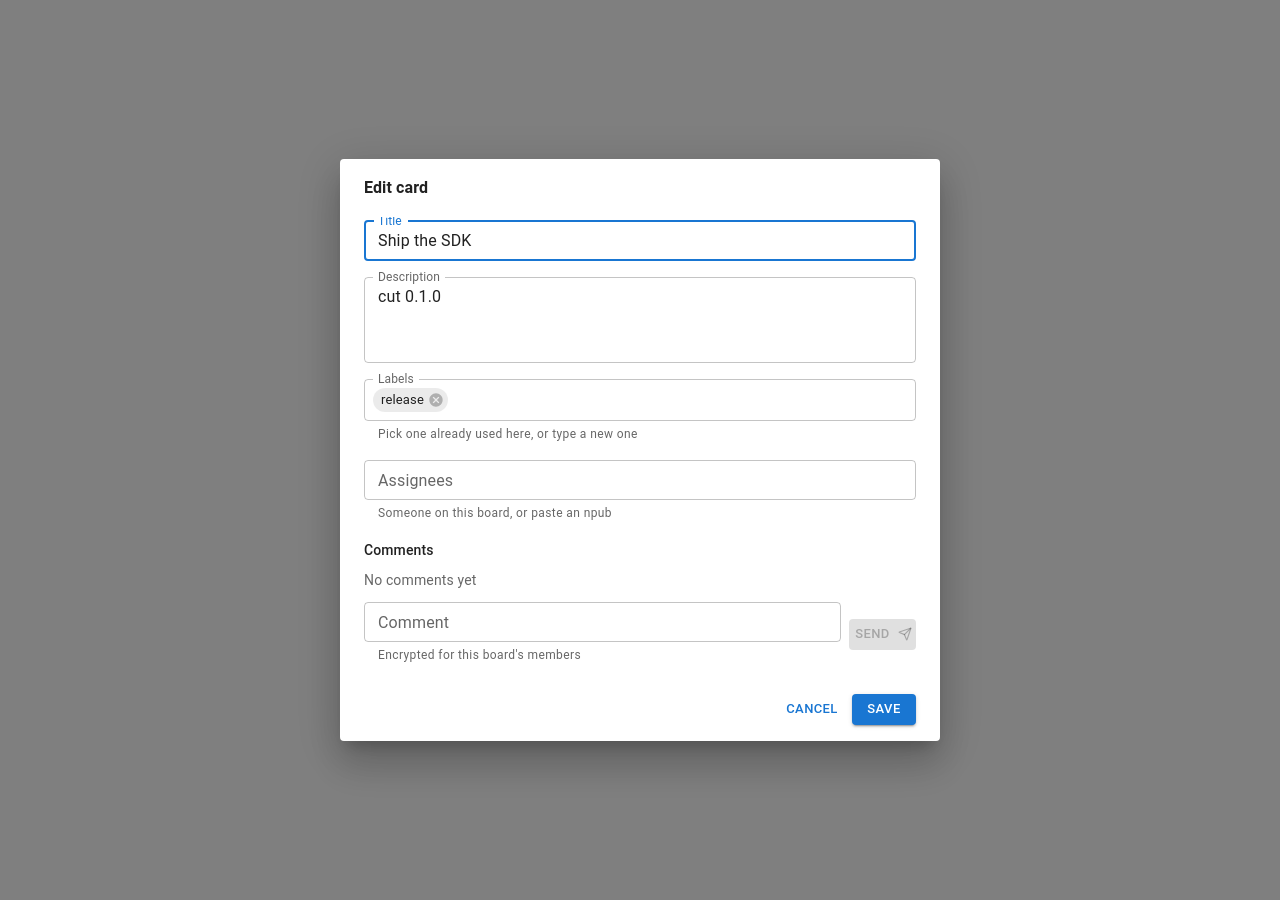
Test: CardDialog comments › posts through the store with the card scoping and refetches
The width and height of the screenshot is (1280, 900).
Expected: the text "No comments yet" is shown, [364,572,476,588]
In the text box labelled "Comment": {"x": 602, "y": 622} [378,611,827,634], type "  Nice progress  "
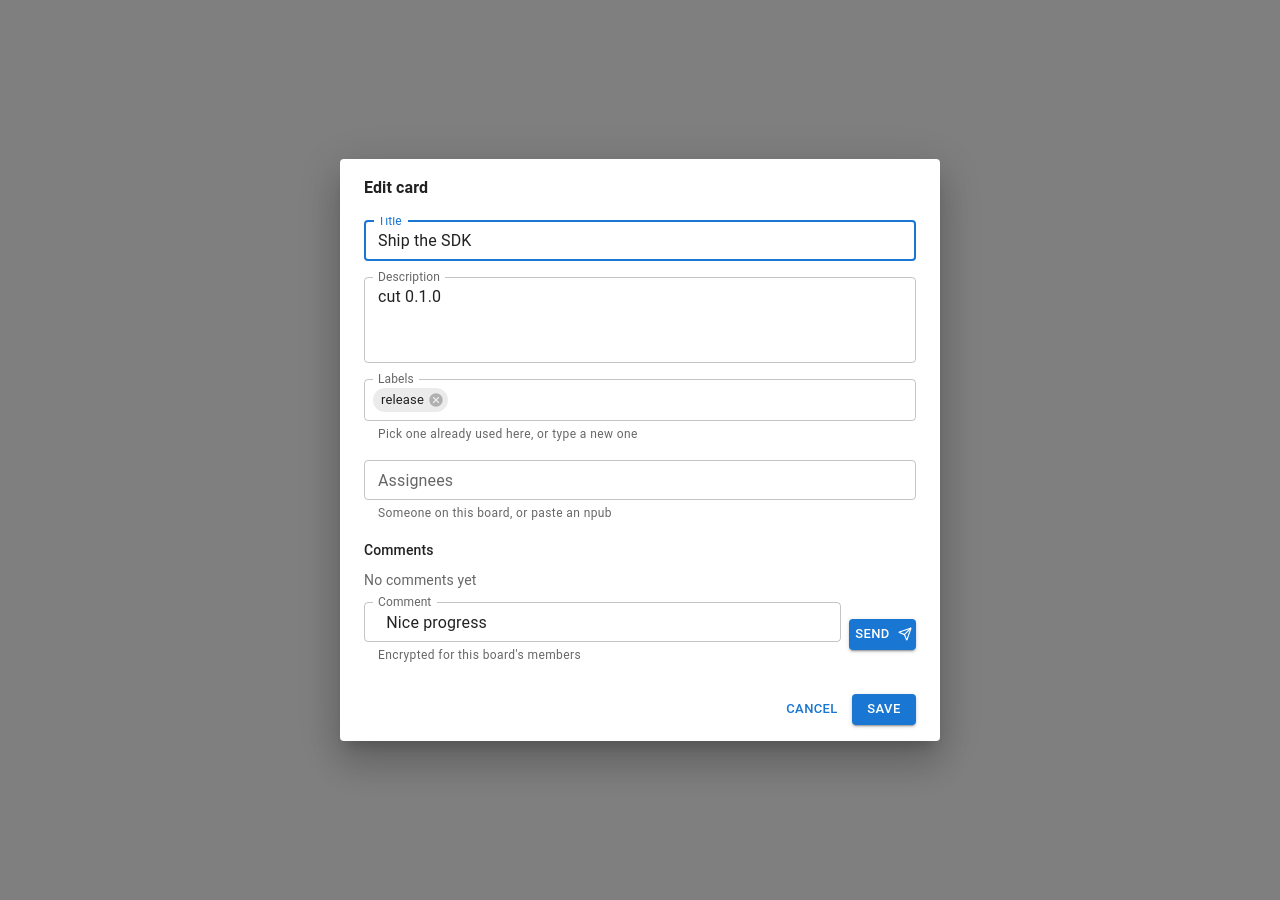
Click the button "Send": {"x": 882, "y": 634} [849,619,916,650]
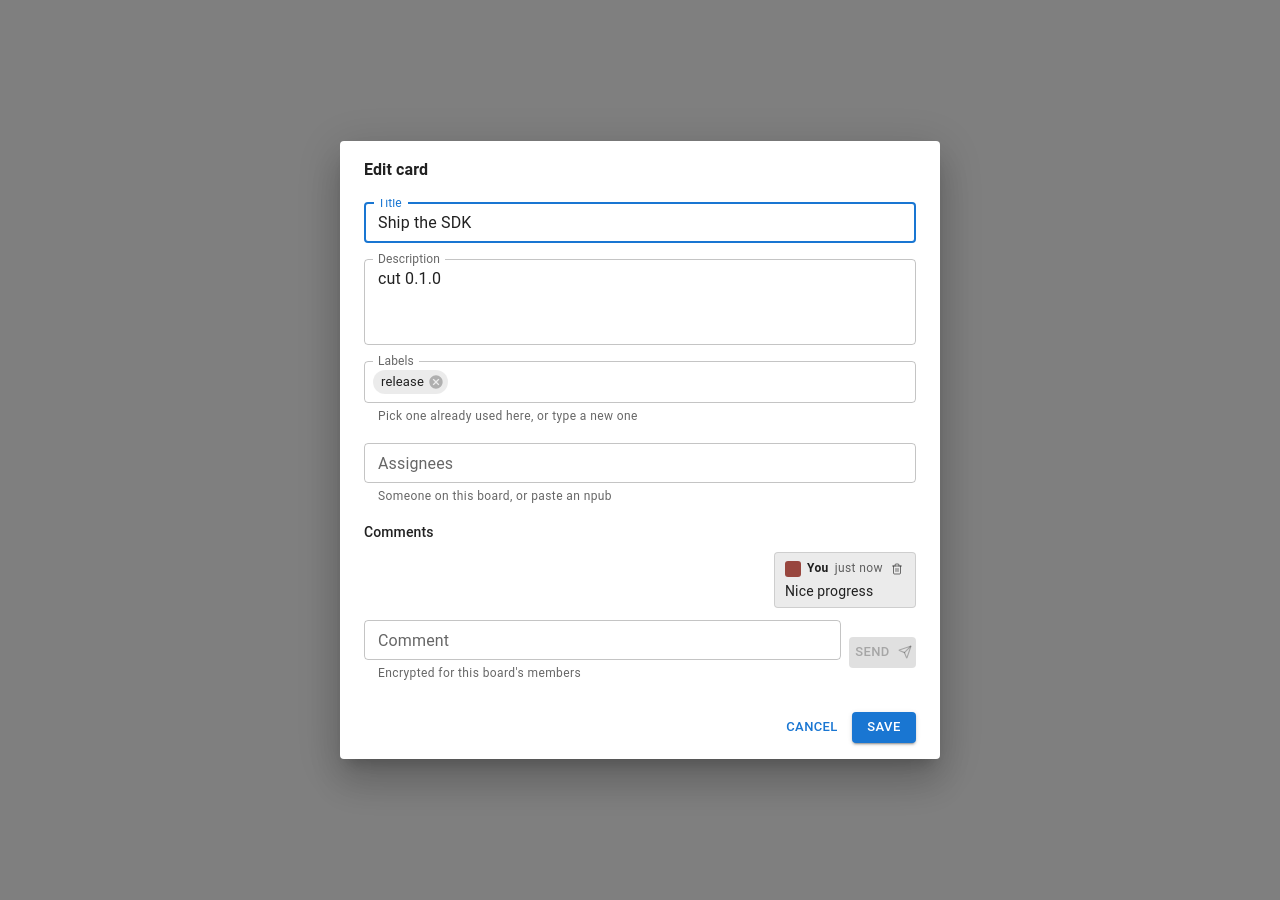
Expected: the text "Nice progress" is shown, [785,583,873,599]
